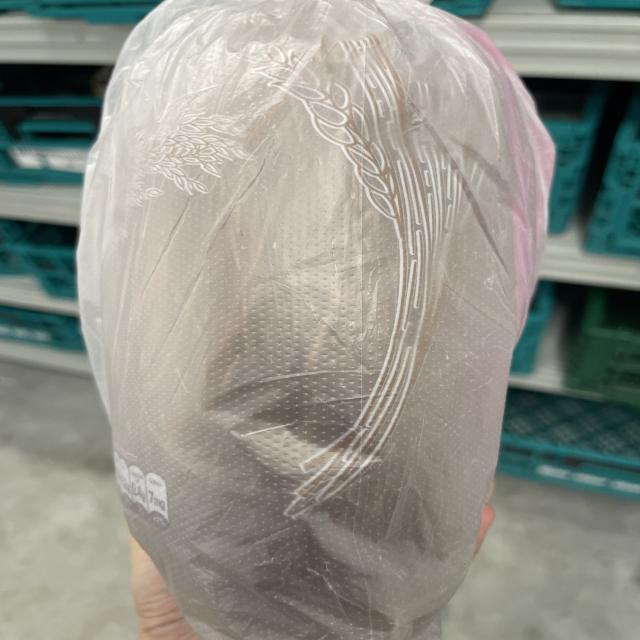object_name: (148, 40, 470, 614)
